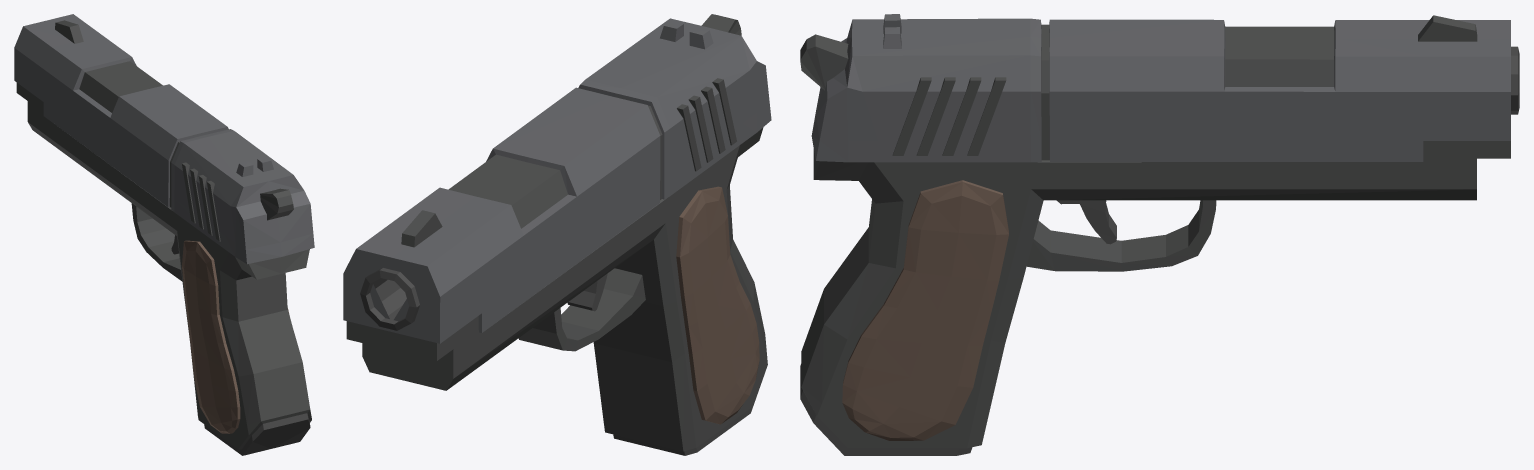
Rendered from pistol.glb.
3 views of the same model, side by side, from view 1: azimuth 30°, elevation 25°; view 2: azimuth 150°, elevation 25°; view 3: azimuth 270°, elevation 25° (orthographic). The views are drawn at different scales.
Parts seen in each view (by area): view 1: GunMesh; view 2: GunMesh; view 3: GunMesh.
Boxes of the visible parts, x1,y1,x2,y2 form: GunMesh: (14, 14, 314, 455); GunMesh: (343, 14, 771, 455); GunMesh: (800, 14, 1519, 455).
Size of the model in its own units: 0.0391 by 0.1405 by 0.22.
